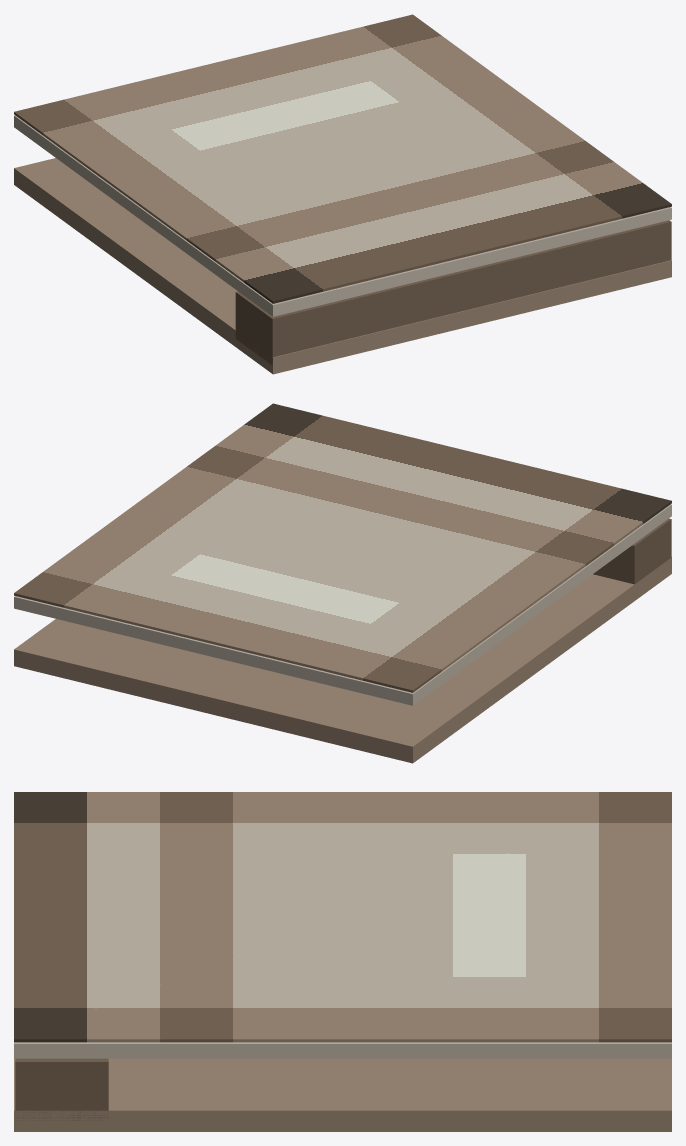
The model's file is CMU3DCMMatchBookPrintedSmallCloud.glb.
The picture shows the model from 3 angles, top to bottom: view 1: azimuth 30°, elevation 25°; view 2: azimuth 150°, elevation 25°; view 3: azimuth 270°, elevation 25°; orthographic projection. The views are drawn at different scales.
Visible parts, largest first — view 1: original closed matchbook print, paper matchbook backing, lower folded retaining strip, closed folded front cover; view 2: original closed matchbook print, paper matchbook backing, closed folded front cover, lower folded retaining strip; view 3: original closed matchbook print, paper matchbook backing, closed folded front cover, lower folded retaining strip.
Part boxes in pixels (x1,y1,x2,y2): original closed matchbook print: (14, 14, 671, 303); paper matchbook backing: (14, 158, 671, 374); lower folded retaining strip: (235, 220, 671, 365); closed folded front cover: (14, 115, 671, 316); original closed matchbook print: (14, 403, 671, 692); paper matchbook backing: (14, 557, 671, 763); closed folded front cover: (14, 504, 671, 705); lower folded retaining strip: (593, 518, 671, 584); original closed matchbook print: (14, 792, 671, 1042); paper matchbook backing: (14, 1058, 671, 1131); closed folded front cover: (14, 1042, 671, 1058); lower folded retaining strip: (15, 1058, 108, 1120).
Size of the model in its own units: 0.25 by 0.0437 by 0.2812.
4 materials, 1 textured.
